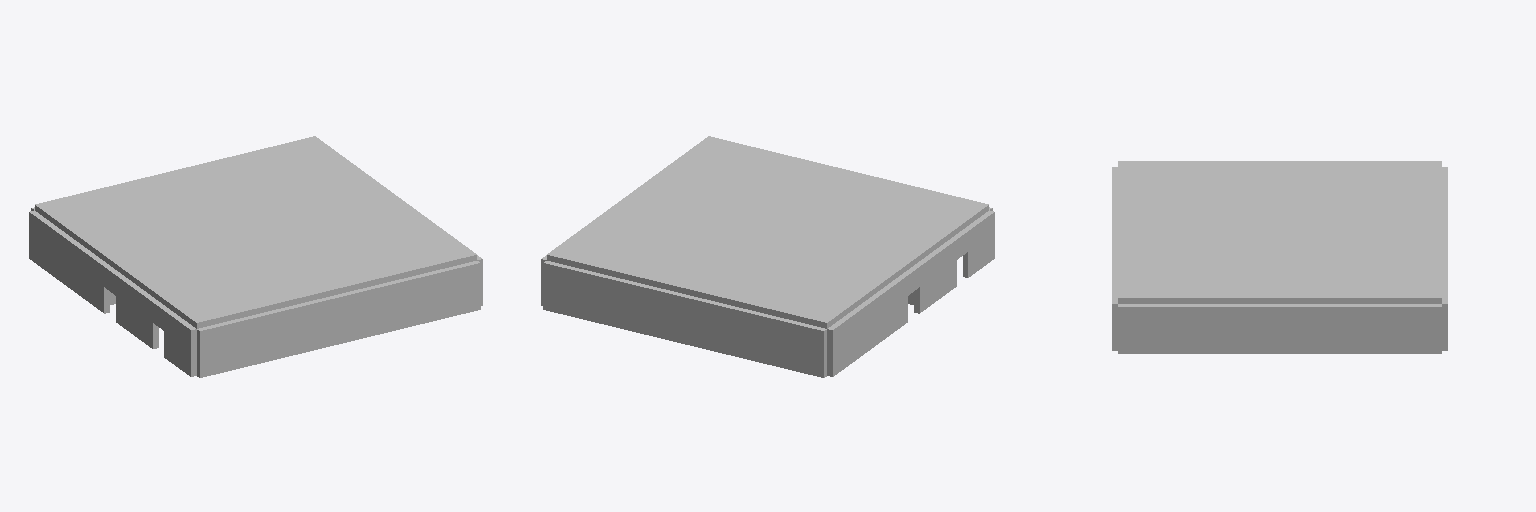
Rendered from Museum 3.obj.
3 renders of one model, left to right at view 1: azimuth 30°, elevation 25°; view 2: azimuth 150°, elevation 25°; view 3: azimuth 270°, elevation 25°, orthographic.
Visible parts, largest first — view 1: Cube.009, Cube.001, Cube.004; view 2: Cube.009, Cube.002, Cube.004; view 3: Cube.009, Cube.003, Cube.001, Cube.002.
Boxes of the visible parts, x1,y1,x2,y2 form: Cube.009: [35, 136, 476, 328]; Cube.001: [197, 261, 480, 377]; Cube.004: [29, 210, 196, 376]; Cube.009: [547, 136, 988, 328]; Cube.002: [543, 261, 826, 377]; Cube.004: [827, 210, 994, 376]; Cube.009: [1118, 161, 1441, 303]; Cube.003: [1118, 304, 1441, 353]; Cube.001: [1112, 167, 1117, 350]; Cube.002: [1442, 167, 1447, 350].
Bounding box in the file's own units: 104 × 18 × 104.